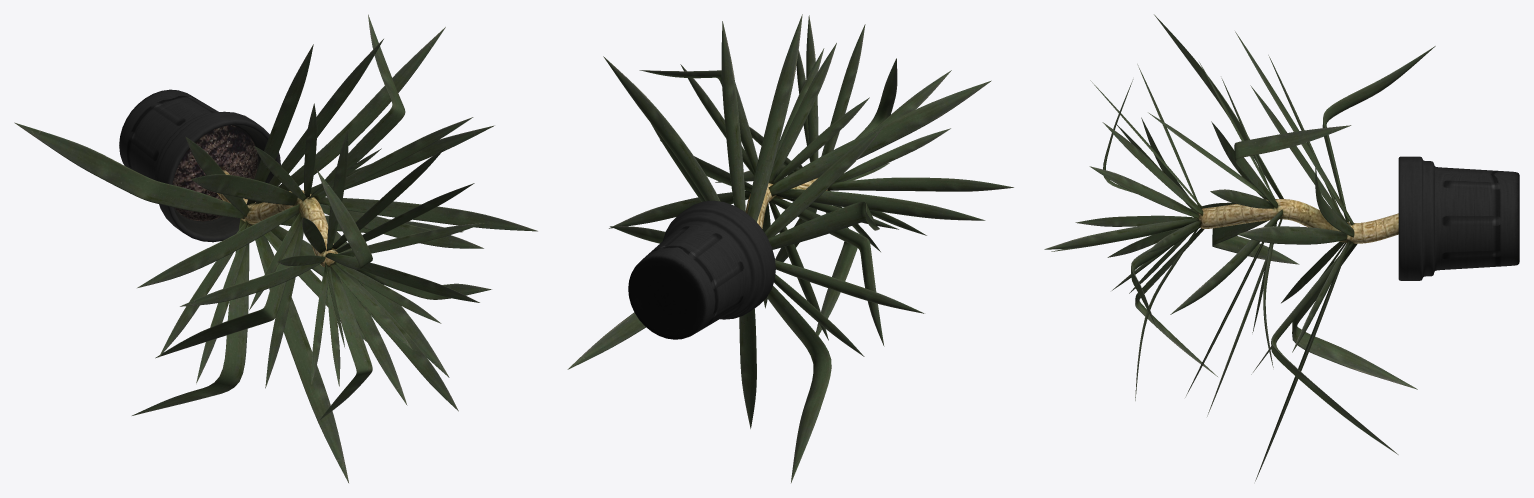
File: plant.glb
The picture shows the model from 3 angles, left to right: view 1: azimuth 30°, elevation 25°; view 2: azimuth 150°, elevation 25°; view 3: azimuth 270°, elevation 25°; orthographic projection. The views are drawn at different scales.
Parts seen in each view (by area): view 1: 10461_Yucca_Plant_v1_max2010_it2; view 2: 10461_Yucca_Plant_v1_max2010_it2; view 3: 10461_Yucca_Plant_v1_max2010_it2.
Boxes of the visible parts, x1=… form: 10461_Yucca_Plant_v1_max2010_it2: x1=14, y1=14, x2=537, y2=482; 10461_Yucca_Plant_v1_max2010_it2: x1=567, y1=14, x2=1013, y2=482; 10461_Yucca_Plant_v1_max2010_it2: x1=1044, y1=14, x2=1519, y2=481.
Bounding box in the file's own units: 138 × 157 × 157.
Materials: 1 (1 with a texture image).
